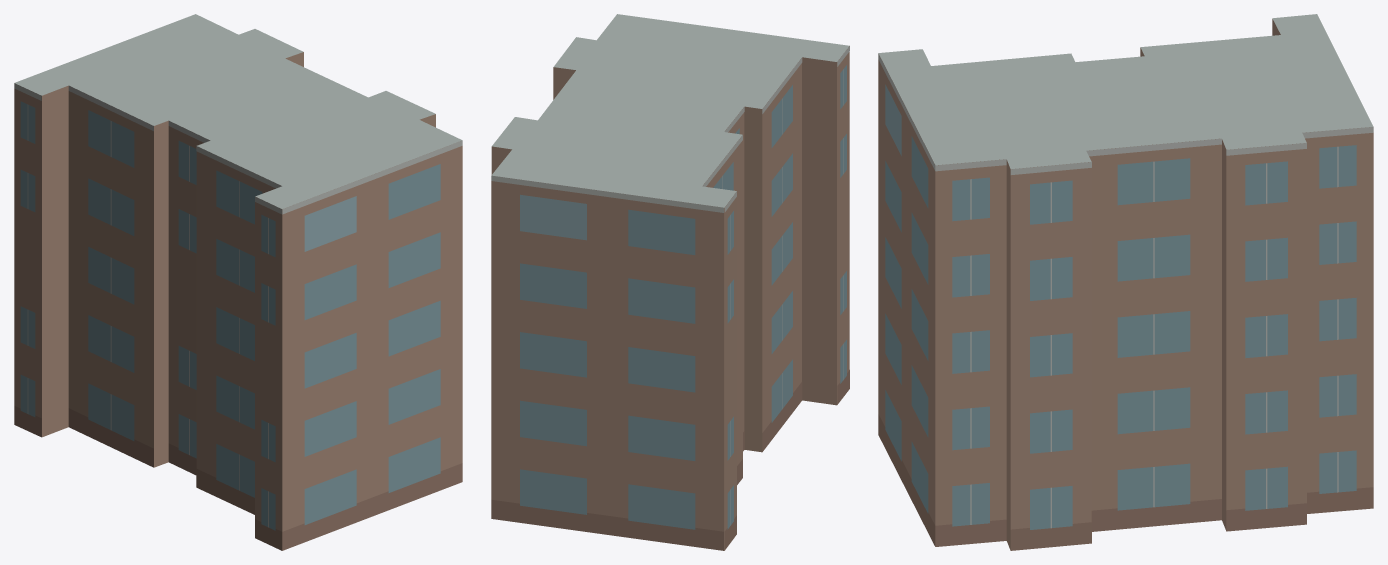
The model's file is survey-upis-32627490.glb.
The picture shows the model from 3 angles, left to right: view 1: azimuth 30°, elevation 25°; view 2: azimuth 150°, elevation 25°; view 3: azimuth 270°, elevation 25°; orthographic projection. The views are drawn at different scales.
Parts seen in each view (by area): view 1: survey-upis-32627490.tmp; view 2: survey-upis-32627490.tmp; view 3: survey-upis-32627490.tmp.
Boxes of the visible parts, box(x1,y1,x2,y2) form: survey-upis-32627490.tmp: box(14, 14, 462, 550); survey-upis-32627490.tmp: box(491, 14, 849, 550); survey-upis-32627490.tmp: box(878, 14, 1373, 550).
Size of the model in its own units: 13.53 by 15.5 by 18.24.
